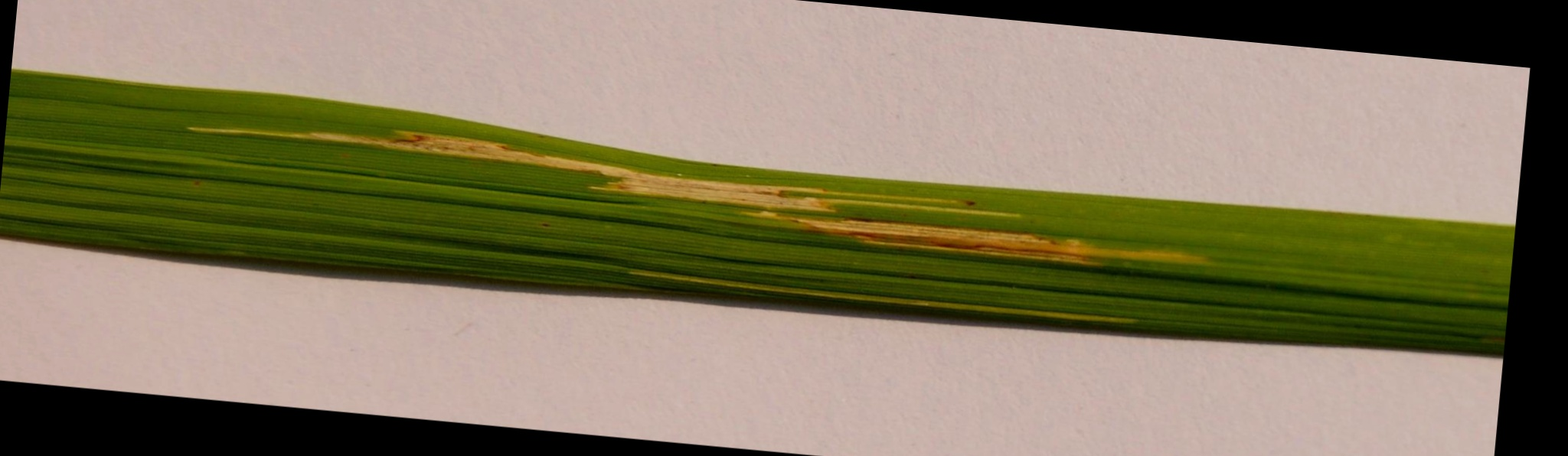Leaf_Blast: (140, 160, 1223, 243)
